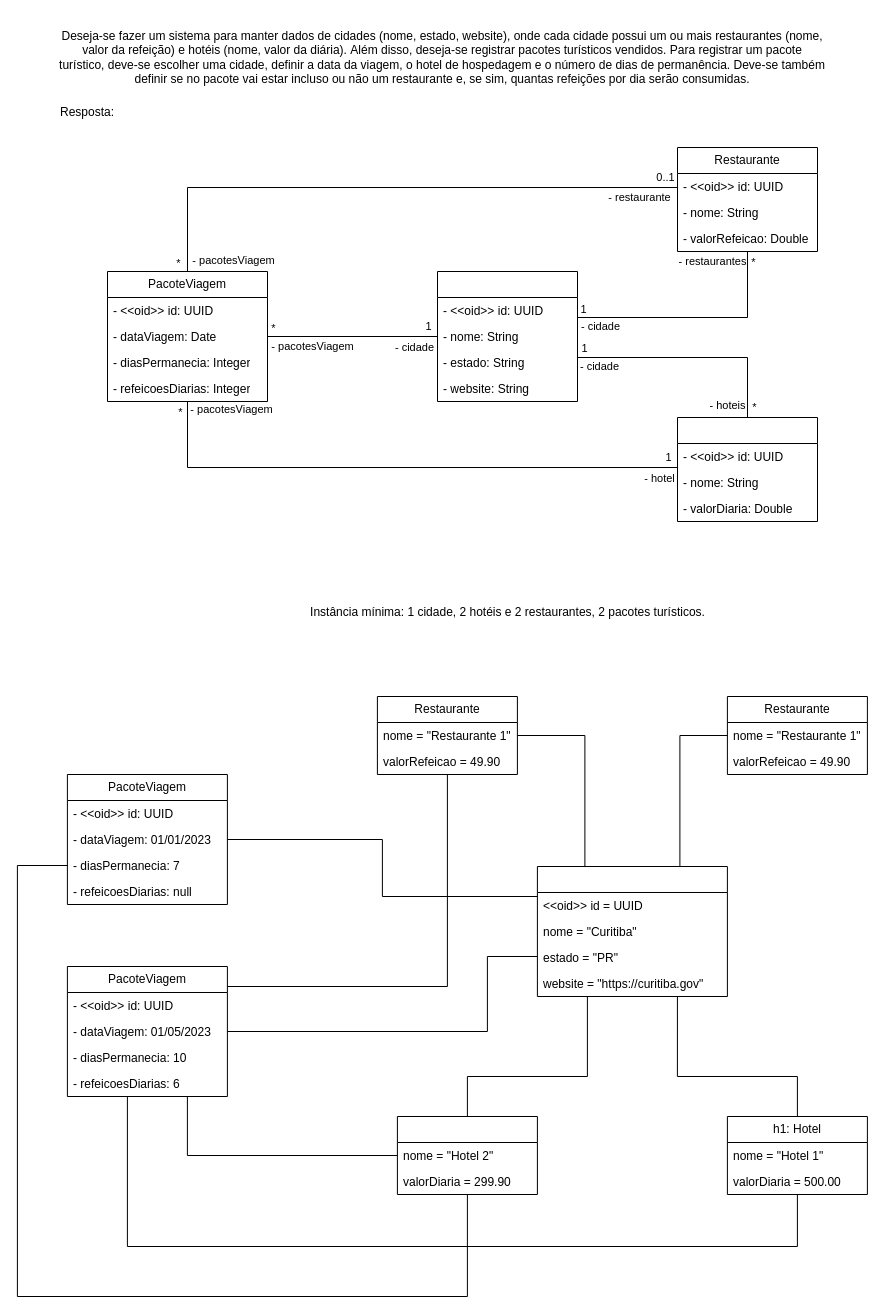
This 885x1315 diagram has some shape labels left out. Each missing label, with the box of its shape:
c1: Cidade: (536, 866, 727, 996)
Cidade: (436, 270, 578, 402)
h2: Hotel: (396, 1116, 537, 1194)
Hotel: (676, 416, 818, 522)
